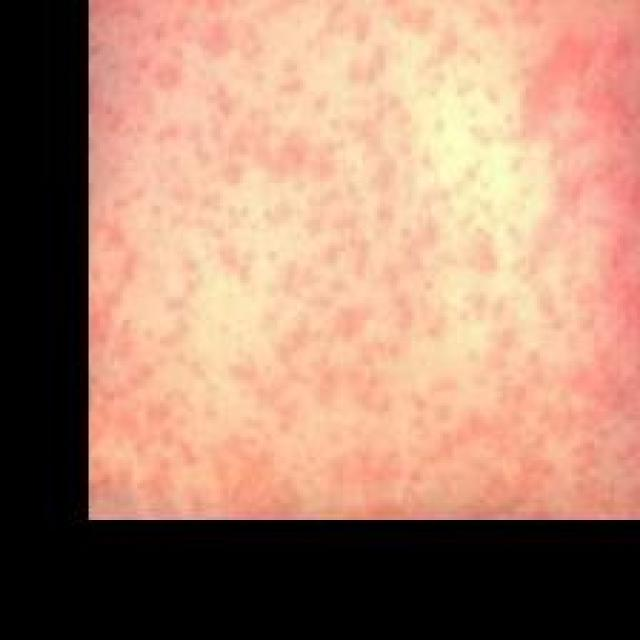others: (88, 0, 640, 485)
